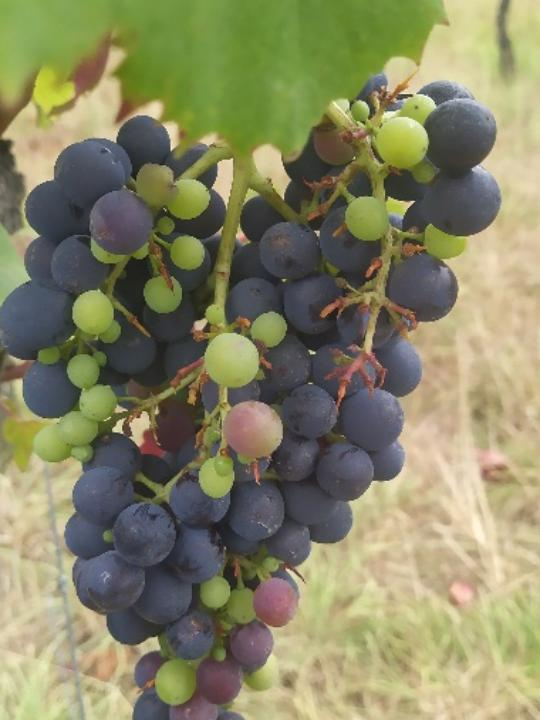grape: (0, 62, 506, 720)
